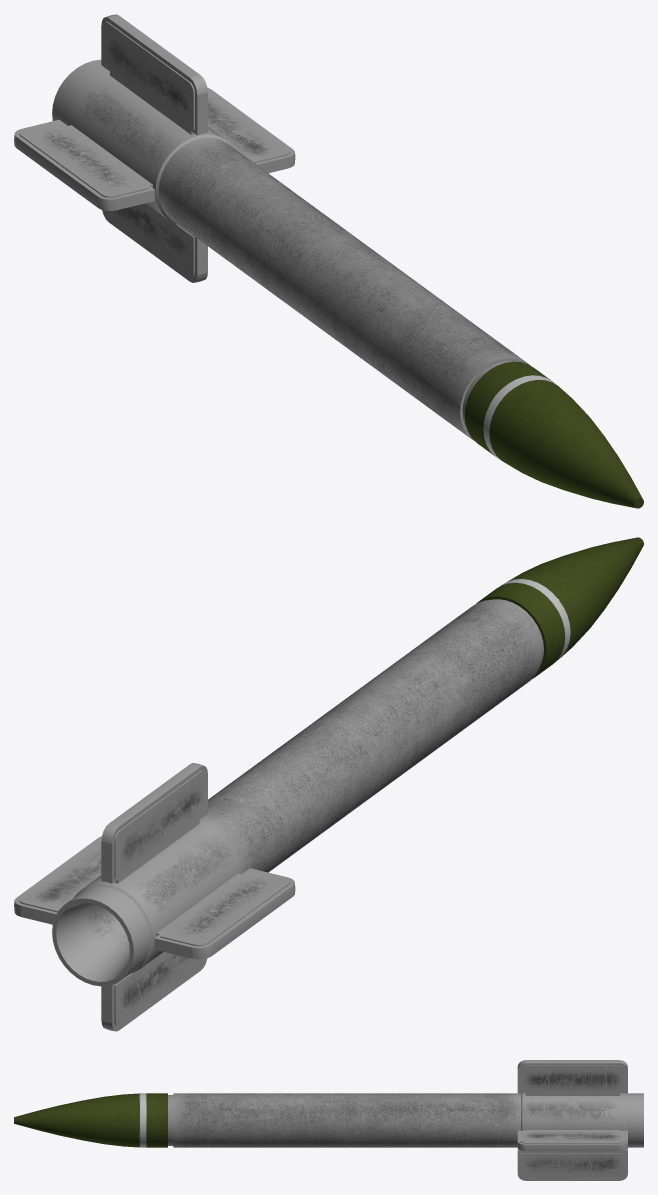
Rendered from Rocket.fbx.
The picture shows the model from 3 angles, top to bottom: view 1: azimuth 30°, elevation 25°; view 2: azimuth 150°, elevation 25°; view 3: azimuth 270°, elevation 25°; orthographic projection. The views are drawn at different scales.
Parts seen in each view (by area): view 1: Rocket; view 2: Rocket; view 3: Rocket.
Part boxes in pixels (<box>): Rocket: <box>14,14,643,508</box>; Rocket: <box>14,537,643,1031</box>; Rocket: <box>14,1060,643,1180</box>.
Bounding box in the file's own units: 0.3918 × 0.3918 × 1.89.
Materials: 1 (1 with a texture image).
